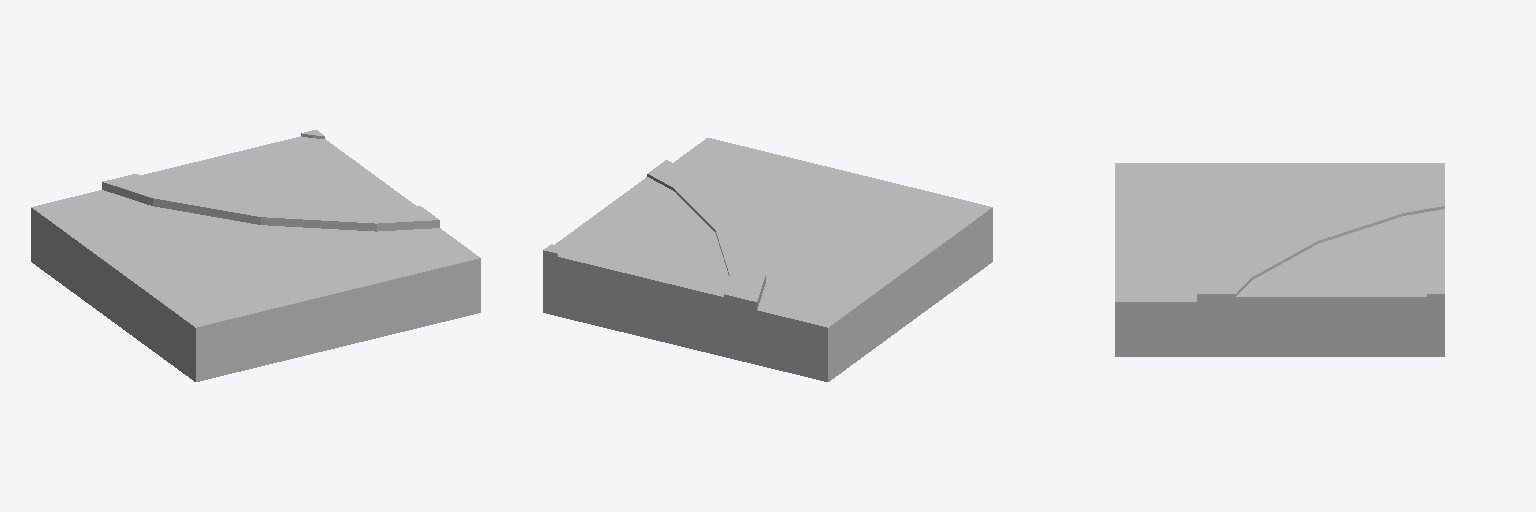
File: tile056.obj
The picture shows the model from 3 angles: view 1: azimuth 30°, elevation 25°; view 2: azimuth 150°, elevation 25°; view 3: azimuth 270°, elevation 25°; orthographic projection.
Parts seen in each view (by area): view 1: tile056; view 2: tile056; view 3: tile056.
Part boxes in pixels (x1,y1,x2,y2): tile056: (31,130,480,381); tile056: (543,138,992,381); tile056: (1115,163,1444,356).
Size of the model in its own units: 1 by 0.21 by 1.